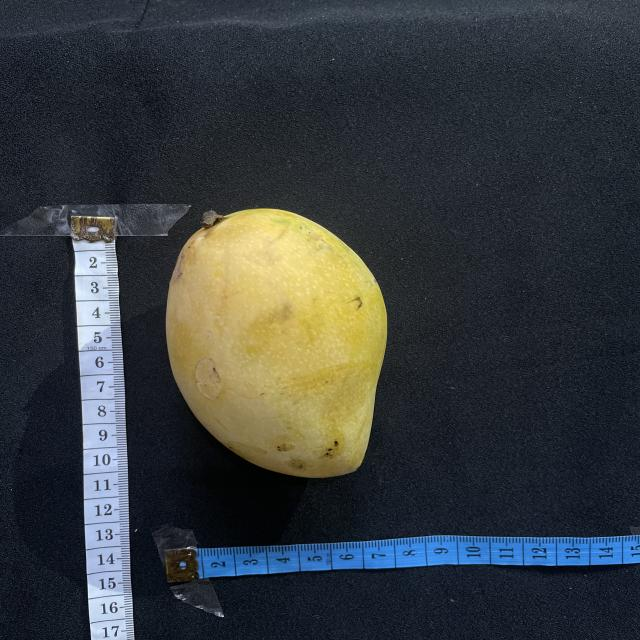Ripe: (167, 209, 387, 478)
